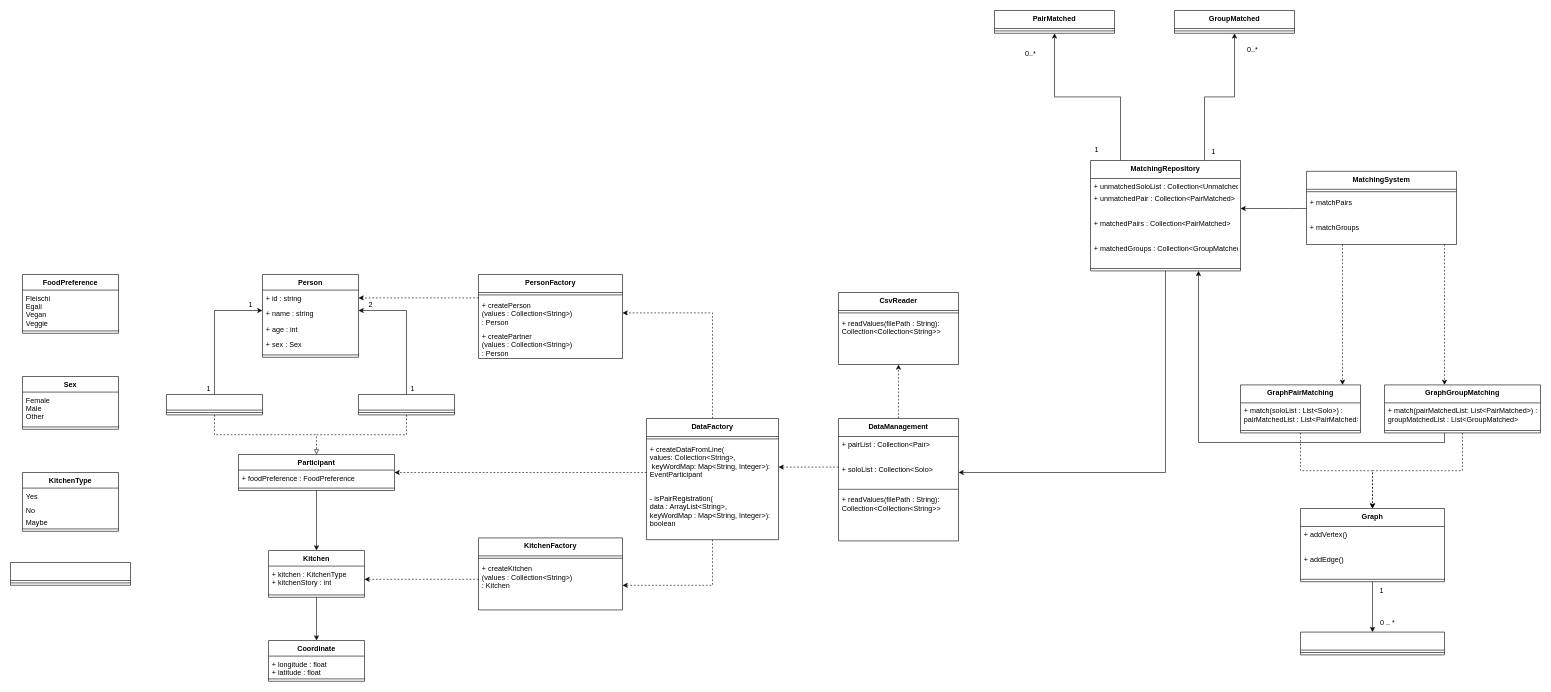
Some shapes in this 1551 by 692 pixel diagram are drawn without their labels. The centre of each missing label's shape, as x and y in pixels:
"Edge" belongs at point 1372,643.
"Keywords" belongs at point 70,573.
"Pair" belongs at point 406,404.
"Solo" belongs at point 214,404.
